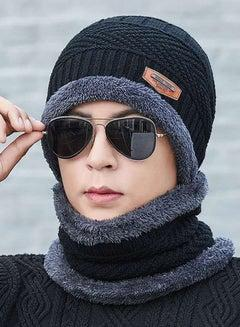cap: (43, 6, 240, 183)
scarf-kerchief: (46, 185, 240, 311)
sunglasses: (42, 112, 163, 170)
